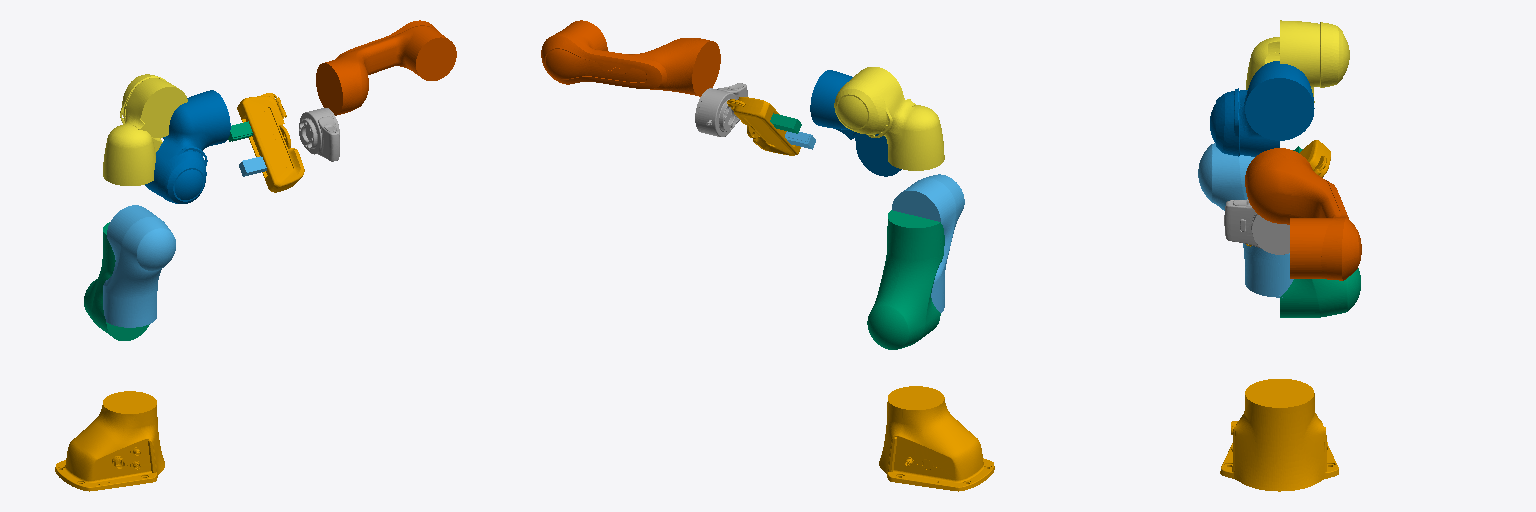
The robot description file, URDF, robot "panda":
<?xml version="1.0" ?>
<robot name="panda">

  <link name="panda_link0">
    <visual>
      <geometry>
        <mesh filename="../../../urdf/franka_description/meshes/visual/link0.obj"/>
      </geometry>
    </visual>
    <collision>
      <geometry>
        <mesh filename="../../../urdf/franka_description/meshes/collision/link0.stl"/>
      </geometry>
    </collision>
    <inertial>
      <origin rpy="0 0 0" xyz="-0.041018 -0.00014 0.049974"/>
      <mass value="0.629769"/>
      <inertia ixx="0.00315" ixy="8.2904e-07" ixz="0.00015" iyy="0.00388" iyz="8.2299e-06" izz="0.004285"/>
    </inertial>
  </link>

  <joint name="panda_joint1" type="revolute">
    <origin rpy="0 0 0" xyz="0 0 0.333"/>
    <parent link="panda_link0"/>
    <child link="panda_link1"/>
    <axis xyz="0 0 1"/>
    <limit effort="87" lower="-2.8973" upper="2.8973" velocity="2.1750"/>
    <dynamics damping="0.0" friction="0.0"/>
  </joint>

  <link name="panda_link1">
    <visual>
      <geometry>
        <mesh filename="../../../urdf/franka_description/meshes/visual/link1.obj"/>
      </geometry>
    </visual>
    <collision>
      <geometry>
        <mesh filename="../../../urdf/franka_description/meshes/collision/link1.stl"/>
      </geometry>
    </collision>
    <inertial>
      <origin rpy="0 0 0" xyz="0.003875 0.002081 -0.04762"/>
      <mass value="4.970684"/>
      <inertia ixx="0.70337" ixy="-0.000139" ixz="0.006772" iyy="0.70661" iyz="0.019169" izz="0.009117"/>
    </inertial>
  </link>

  <joint name="panda_joint2" type="revolute">
    <origin rpy="-1.5707963267948966 0 0" xyz="0 0 0"/>
    <parent link="panda_link1"/>
    <child link="panda_link2"/>
    <axis xyz="0 0 1"/>
    <limit effort="87" lower="-1.7628" upper="1.7628" velocity="2.1750"/>
    <dynamics damping="0.0" friction="0.0"/>
  </joint>
  
  <link name="panda_link2">
    <visual>
      <geometry>
        <mesh filename="../../../urdf/franka_description/meshes/visual/link2.obj"/>
      </geometry>
    </visual>
    <collision>
      <geometry>
        <mesh filename="../../../urdf/franka_description/meshes/collision/link2.stl"/>
      </geometry>
    </collision>
    <inertial>
      <origin rpy="0 0 0" xyz="-0.003141 -0.02872  0.003495"/>
      <mass value="0.646926"/>
      <inertia ixx="0.007962" ixy="-0.003925" ixz="0.010254" iyy="0.02811" iyz="0.000704" izz="0.025995"/>
    </inertial>
  </link>

  <joint name="panda_joint3" type="revolute">
    <origin rpy="1.5707963267948966 0 0" xyz="0 -0.316 0"/>
    <parent link="panda_link2"/>
    <child link="panda_link3"/>
    <axis xyz="0 0 1"/>
    <limit effort="87" lower="-2.8973" upper="2.8973" velocity="2.1750"/>
    <dynamics damping="0.0" friction="0.0"/>
  </joint>
  
  <link name="panda_link3">
    <visual>
      <geometry>
        <mesh filename="../../../urdf/franka_description/meshes/visual/link3.obj"/>
      </geometry>
    </visual>
    <collision>
      <geometry>
        <mesh filename="../../../urdf/franka_description/meshes/collision/link3.stl"/>
      </geometry>
    </collision>
    <inertial>
      <origin rpy="0 0 0" xyz="2.7518e-02 3.9252e-02 -6.6502e-02"/>
      <mass value="3.228604"/>
      <inertia ixx="0.037242" ixy="-0.004761" ixz="-0.011396" iyy="0.036155" iyz="-0.012805" izz="0.01083"/>
    </inertial>
  </link>

  <joint name="panda_joint4" type="revolute">
    <origin rpy="1.5707963267948966 0 0" xyz="0.0825 0 0"/>
    <parent link="panda_link3"/>
    <child link="panda_link4"/>
    <axis xyz="0 0 1"/>
    <limit effort="87" lower="-3.0718" upper="-0.0698" velocity="2.1750"/>
    <dynamics damping="0.0" friction="0.0"/>
  </joint>
  
  <link name="panda_link4">
    <visual>
      <geometry>
        <mesh filename="../../../urdf/franka_description/meshes/visual/link4.obj"/>
      </geometry>
    </visual>
    <collision>
      <geometry>
        <mesh filename="../../../urdf/franka_description/meshes/collision/link4.stl"/>
      </geometry>
    </collision>
    <inertial>
      <origin rpy="0 0 0" xyz="-5.317e-02 1.04419e-01 2.7454e-02"/>
      <mass value="3.587895"/>
      <inertia ixx="0.025853" ixy="0.007796" ixz="-0.001332" iyy="0.019552" iyz="0.008641" izz="0.028323"/>
    </inertial>
  </link>

  <joint name="panda_joint5" type="revolute">
    <origin rpy="-1.5707963267948966 0 0" xyz="-0.0825 0.384 0"/>
    <parent link="panda_link4"/>
    <child link="panda_link5"/>
    <axis xyz="0 0 1"/>
    <limit effort="12" lower="-2.8973" upper="2.8973" velocity="2.6100"/>
    <dynamics damping="0.0" friction="0.0"/>
  </joint>
  
  <link name="panda_link5">
    <visual>
      <geometry>
        <mesh filename="../../../urdf/franka_description/meshes/visual/link5.obj"/>
      </geometry>
    </visual>
    <collision>
      <geometry>
        <mesh filename="../../../urdf/franka_description/meshes/collision/link5.stl"/>
      </geometry>
    </collision>
    <inertial>
      <origin rpy="0 0 0" xyz="-1.1953e-02 4.1065e-02 -3.8437e-02"/>
      <mass value="1.225946"/>
      <inertia ixx="0.035549" ixy="-0.002117" ixz="-0.004037" iyy="0.029474" iyz="0.000229" izz="0.008627"/>
    </inertial>
  </link>

  <joint name="panda_joint6" type="revolute">
    <origin rpy="1.5707963267948966 0 0" xyz="0 0 0"/>
    <parent link="panda_link5"/>
    <child link="panda_link6"/>
    <axis xyz="0 0 1"/>
    <limit effort="12" lower="-0.0175" upper="3.7525" velocity="2.6100"/>
    <dynamics damping="0.0" friction="0.0"/>
  </joint>
  
  <link name="panda_link6">
    <visual>
      <geometry>
        <mesh filename="../../../urdf/franka_description/meshes/visual/link6.obj"/>
      </geometry>
    </visual>
    <collision>
      <geometry>
        <mesh filename="../../../urdf/franka_description/meshes/collision/link6.stl"/>
      </geometry>
    </collision>
    <inertial>
      <origin rpy="0 0 0" xyz="6.0149e-02 -1.4117e-02 -1.0517e-02"/>
      <mass value="1.666555"/>
      <inertia ixx="0.001964" ixy="0.000109" ixz="-0.001158" iyy="0.004354" iyz="0.000341" izz="0.005433"/>
    </inertial>
  </link>

  <joint name="panda_joint7" type="revolute">
    <origin rpy="1.5707963267948966 0 0" xyz="0.088 0 0"/>
    <parent link="panda_link6"/>
    <child link="panda_link7"/>
    <axis xyz="0 0 1"/>
    <limit effort="12" lower="-2.8973" upper="2.8973" velocity="2.6100"/>
    <dynamics damping="0.0" friction="0.0"/>
  </joint>
  
  <link name="panda_link7">
    <visual>
      <geometry>
        <mesh filename="../../../urdf/franka_description/meshes/visual/link7.obj"/>
      </geometry>
    </visual>
    <collision>
      <geometry>
        <mesh filename="../../../urdf/franka_description/meshes/collision/link7.stl"/>
      </geometry>
    </collision>
    <inertial>
      <origin rpy="0 0 0" xyz="1.0517e-02 -4.252e-03 6.1597e-02"/>
      <mass value="0.735522"/>
      <inertia ixx="0.012516" ixy="-0.000428" ixz="-0.001196" iyy="0.010027" iyz="-0.000741" izz="0.004815"/>
    </inertial>
  </link>

  <joint name="panda_hand_joint" type="fixed">
    <parent link="panda_link7"/>
    <child link="panda_hand"/>
    <origin rpy="0 0 -0.7853981633974483" xyz="0 0 0.107"/>
  </joint>
  
  <link name="panda_hand">
    <visual>
      <geometry>
        <mesh filename="../../../urdf/franka_description/meshes/visual/hand.obj"/>
      </geometry>
    </visual>
    <collision>
      <geometry>
        <mesh filename="../../../urdf/franka_description/meshes/collision/hand.stl"/>
      </geometry>
    </collision>
    <inertial>
      <origin rpy="0 0 0" xyz="-0.01 0 0.03"/>
      <mass value="0.73"/>
      <inertia ixx="0.001" ixy="0" ixz="0" iyy="0.0025" iyz="0" izz="0.0017"/>
    </inertial>
  </link>

  <joint name="panda_finger_joint1" type="fixed">
    <parent link="panda_hand"/>
    <child link="panda_leftfinger"/>
    <origin xyz="0.0 0.024 0.0584" rpy="0.0 0.0 0.0"/>
</joint>

  <joint name="panda_finger_joint2" type="fixed">
    <parent link="panda_hand"/>
    <child link="panda_rightfinger"/>
    <origin xyz="0.0 -0.024 0.0584" rpy="0.0 0.0 0.0"/>
</joint>
  
  <link name="panda_leftfinger">
    <visual>
      <geometry>
        <mesh filename="../../mesh/fabrica_franka_table/fabrica_franka_finger_rubber_viz.obj"/>
      </geometry>
    </visual>
    <!--finger-->
    <collision>
      <origin rpy="0 0 0" xyz="0.0 0.0155 0.027"/>
      <geometry>
        <box size="0.021 0.026 0.054"/>
      </geometry>
    </collision>
    <!--fingerpad-->
    <collision>
      <origin rpy="0 0 0" xyz="0.0 0.00125 0.02923232"/>
      <geometry>
        <box size="0.01224264 0.0025 0.04377800"/>
      </geometry>
    </collision>
    <inertial>
      <origin rpy="0 0 0" xyz="0 0.0114 0.0231"/>
      <mass value="0.0297"/>
      <inertia ixx="7.552e-06" ixy="0" ixz="0" iyy="7.159e-06" iyz="1.043e-6" izz="2.352e-06"/>
    </inertial>
  </link>

  <link name="panda_rightfinger">
    <visual>
      <origin rpy="0 0 3.141592653589793" xyz="0 0 0"/>
      <geometry>
        <mesh filename="../../mesh/fabrica_franka_table/fabrica_franka_finger_rubber_viz.obj"/>
      </geometry>
    </visual>
    <!--finger-->
    <collision>
      <origin rpy="0 0 0" xyz="0.0 -0.0155 0.027"/>
      <geometry>
        <box size="0.021 0.026 0.054"/>
      </geometry>
    </collision>
    <!--fingerpad-->
    <collision>
      <origin rpy="0 0 0" xyz="0.0 -0.00125 0.02923232"/>
      <geometry>
        <box size="0.01224264 0.0025 0.04377800"/>
      </geometry>
    </collision>
    <inertial>
      <origin rpy="0 0 3.141592653589793" xyz="0 0.0114 0.0231"/>
      <mass value="0.0297"/>
      <inertia ixx="7.552e-06" ixy="0" ixz="0" iyy="7.159e-06" iyz="1.043e-6" izz="2.352e-06"/>
    </inertial>
  </link>

  <!--Used for calculating pose and Jacobian.
  Joint connects hand to dummy link located at midpoint between centers of original fingerpads (when fingers are mirrored).-->
  <joint name="panda_fingertip_centered_joint" type="fixed">
      <parent link="panda_hand"/>
      <child link="panda_fingertip_centered"/>
      <origin rpy="0 0 0" xyz="0 0 0.1034"/>
  </joint>

  <link name="panda_fingertip_centered">
    <inertial>
      <origin rpy="0 0 0" xyz="0 0 0"/>
      <mass value="1.0e-6"/>
      <inertia ixx="1.0e-09" ixy="0" ixz="0" iyy="1.0e-09" iyz="0" izz="1.0e-09"/>
    </inertial>
  </link>

<link name="3">
        <visual>
	<origin xyz="0 0 0" rpy="-1.5708 0 0"/>
            <geometry>
                <mesh filename="../../mesh/fabrica/plumbers_block/3.obj"/>
            </geometry>
        </visual>
        <collision>
            <geometry>
                <mesh filename="../../mesh/fabrica/plumbers_block/3.obj"/>
            </geometry>
            <sdf resolution="512"/>
        </collision>
    </link>

    <joint name="3_joint" type="fixed">
        <parent link="panda_hand"/>
        <child link="3"/>
        <origin xyz="0.08315708903118083 -0.006331734487334345 0.13114094921574665" rpy="-3.0781974989625462 1.3961084962655192 0.06437220236631097" />
    </joint>
    
</robot>

--- Render facts (derived) ---
The picture shows the robot from 3 angles, left to right: view 1: azimuth 30°, elevation 25°; view 2: azimuth 150°, elevation 25°; view 3: azimuth 270°, elevation 25°; orthographic projection.
Robot: panda — 13 links, 12 joints (7 revolute, 5 fixed); root link panda_link0; default pose: joints at zero except 1 at the middle of their limits (panda_joint4 = -1.57).
Links seen in each view (by area): view 1: panda_link0, panda_link5, panda_link1, panda_link3, panda_link4, panda_hand, panda_link2, panda_link7; view 2: panda_link0, panda_link5, panda_link2, panda_link3, panda_link1, panda_link4, panda_hand, panda_link7; view 3: panda_link0, panda_link5, panda_link4, panda_link3, panda_link1, panda_link2, panda_link7, panda_hand.
Link boxes in pixels (x1,y1,x2,y2): panda_link0: (55, 391, 164, 491); panda_link5: (316, 20, 456, 115); panda_link1: (103, 205, 175, 327); panda_link3: (103, 74, 187, 185); panda_link4: (145, 90, 230, 203); panda_hand: (237, 93, 304, 192); panda_link2: (84, 222, 149, 340); panda_link7: (299, 108, 339, 161); panda_link0: (879, 386, 994, 491); panda_link5: (541, 20, 720, 96); panda_link2: (867, 210, 944, 349); panda_link3: (834, 67, 944, 170); panda_link1: (892, 174, 964, 312); panda_link4: (810, 70, 901, 176); panda_hand: (727, 97, 800, 155); panda_link7: (695, 83, 747, 136); panda_link0: (1220, 379, 1338, 491); panda_link5: (1245, 148, 1361, 280); panda_link4: (1210, 61, 1314, 156); panda_link3: (1246, 20, 1349, 102); panda_link1: (1198, 143, 1293, 297); panda_link2: (1280, 268, 1360, 317); panda_link7: (1224, 199, 1289, 254); panda_hand: (1246, 140, 1330, 246).
Size in the robot's own frame: 0.9318 by 0.2593 by 0.825 metres.
Meshes: 11 distinct files referenced, 10 mesh visuals loaded (9 OBJ); not drawn: 2 (reference not matched to a file when rendering).
